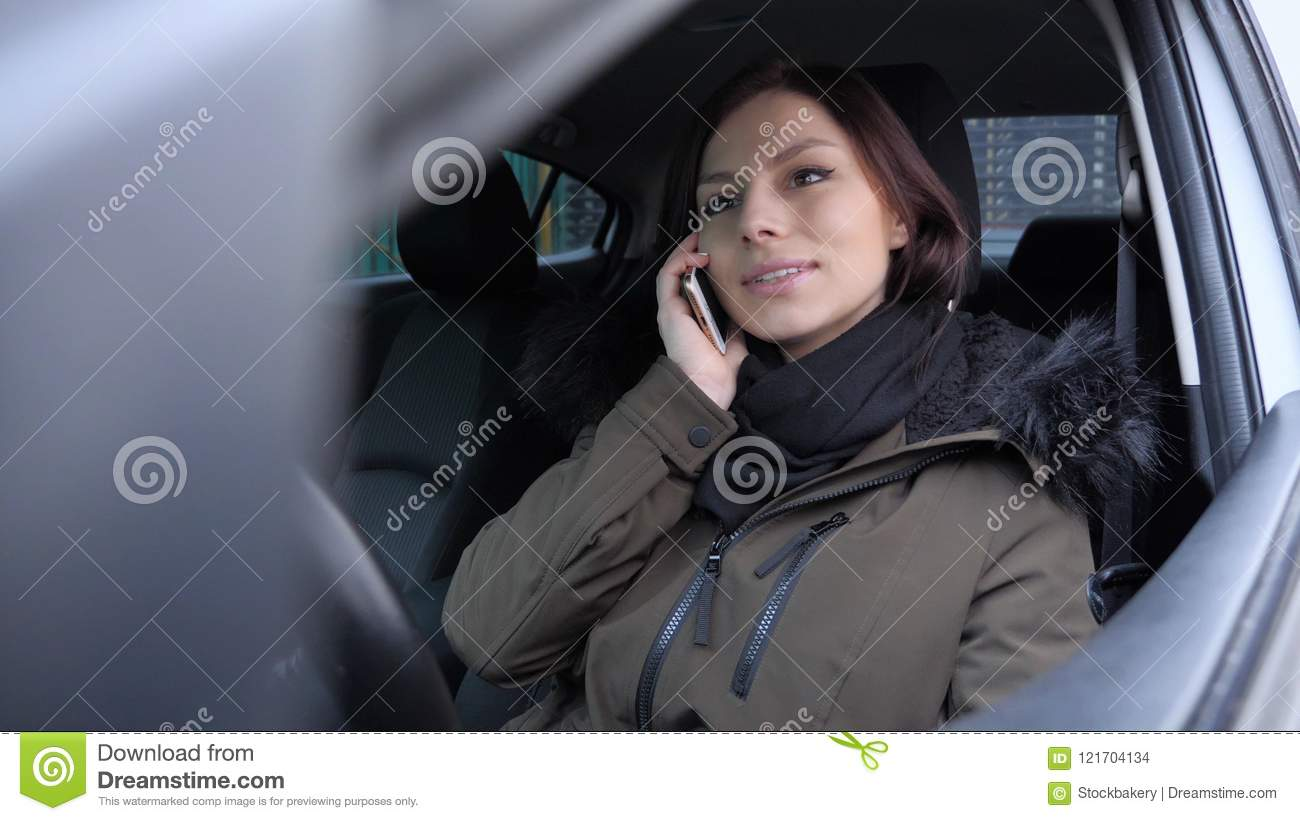phone: (671, 247, 735, 358)
talk: (653, 133, 858, 412)
